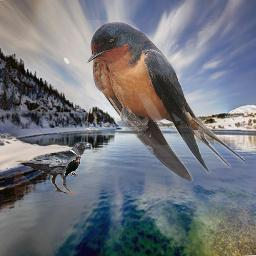Crow: (14, 141, 92, 194), (63, 155, 83, 177)
Swallow: (86, 20, 245, 181)
